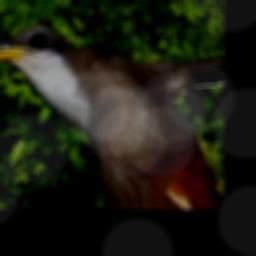Cuckoo: (0, 24, 224, 209)
